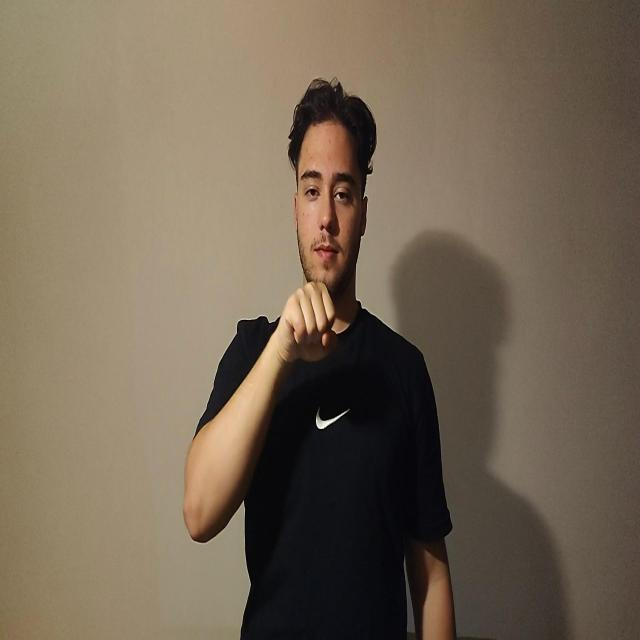yes: (276, 279, 338, 365)
